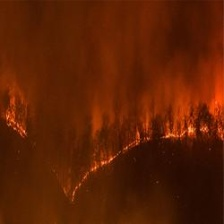fire: (1, 96, 222, 202)
